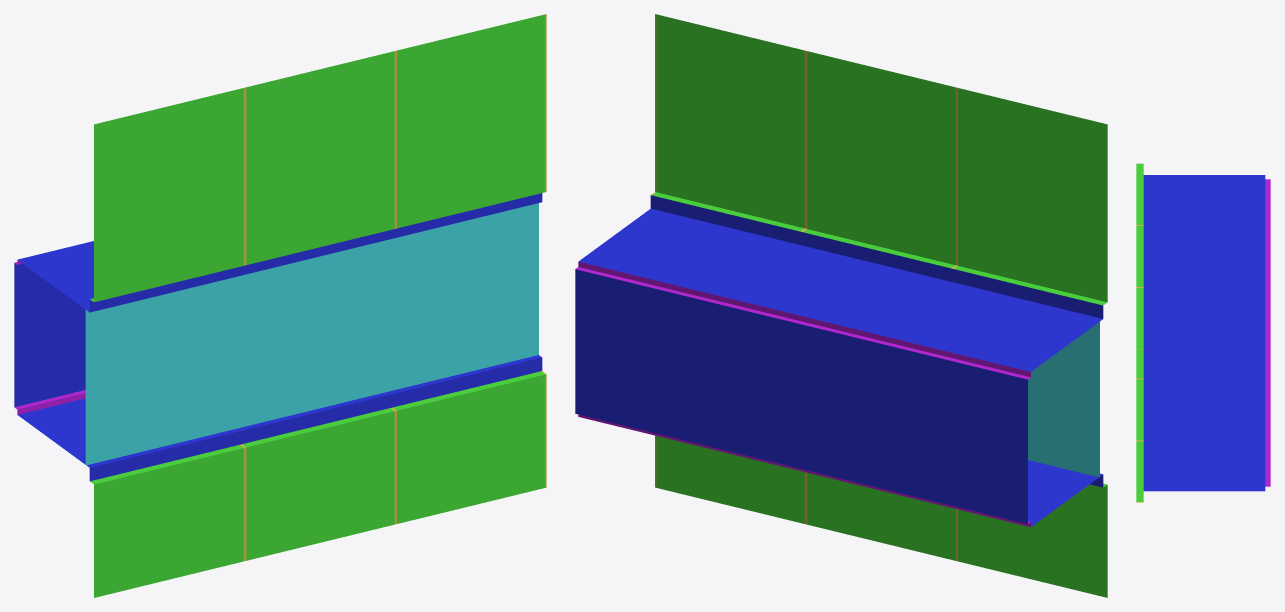
Rendered from Wall_53_Middle.fbx.
3 views of the same model, side by side, from view 1: azimuth 30°, elevation 25°; view 2: azimuth 150°, elevation 25°; view 3: azimuth 270°, elevation 25° (orthographic). The views are drawn at different scales.
Parts seen in each view (by area): view 1: Wall_53_Middle; view 2: Wall_53_Middle; view 3: Wall_53_Middle.
Boxes of the visible parts, box(x1,y1,x2,y2) form: Wall_53_Middle: box(14, 14, 546, 597); Wall_53_Middle: box(575, 14, 1107, 597); Wall_53_Middle: box(1136, 163, 1270, 502).
Size of the model in its own units: 457 by 457 by 140.
